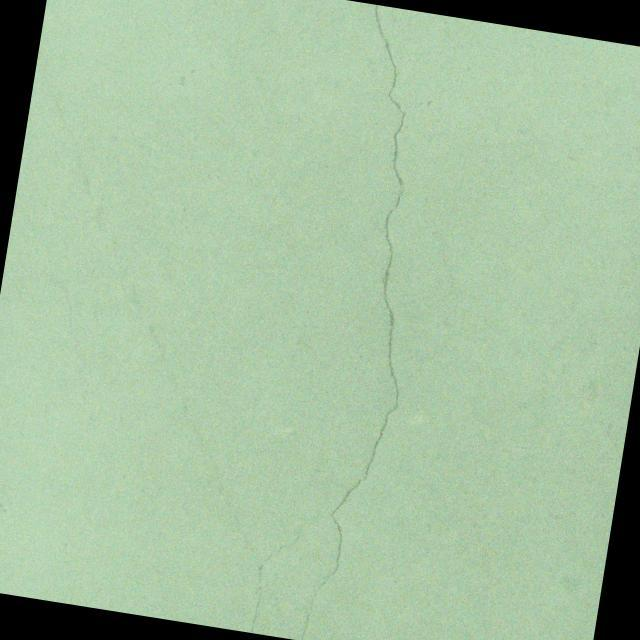crack: (275, 5, 464, 640), (247, 517, 303, 638)
